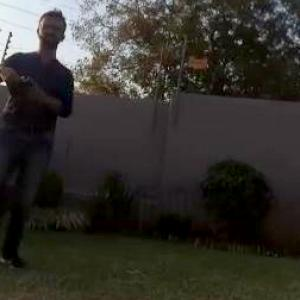follow: (0, 0, 80, 280)
